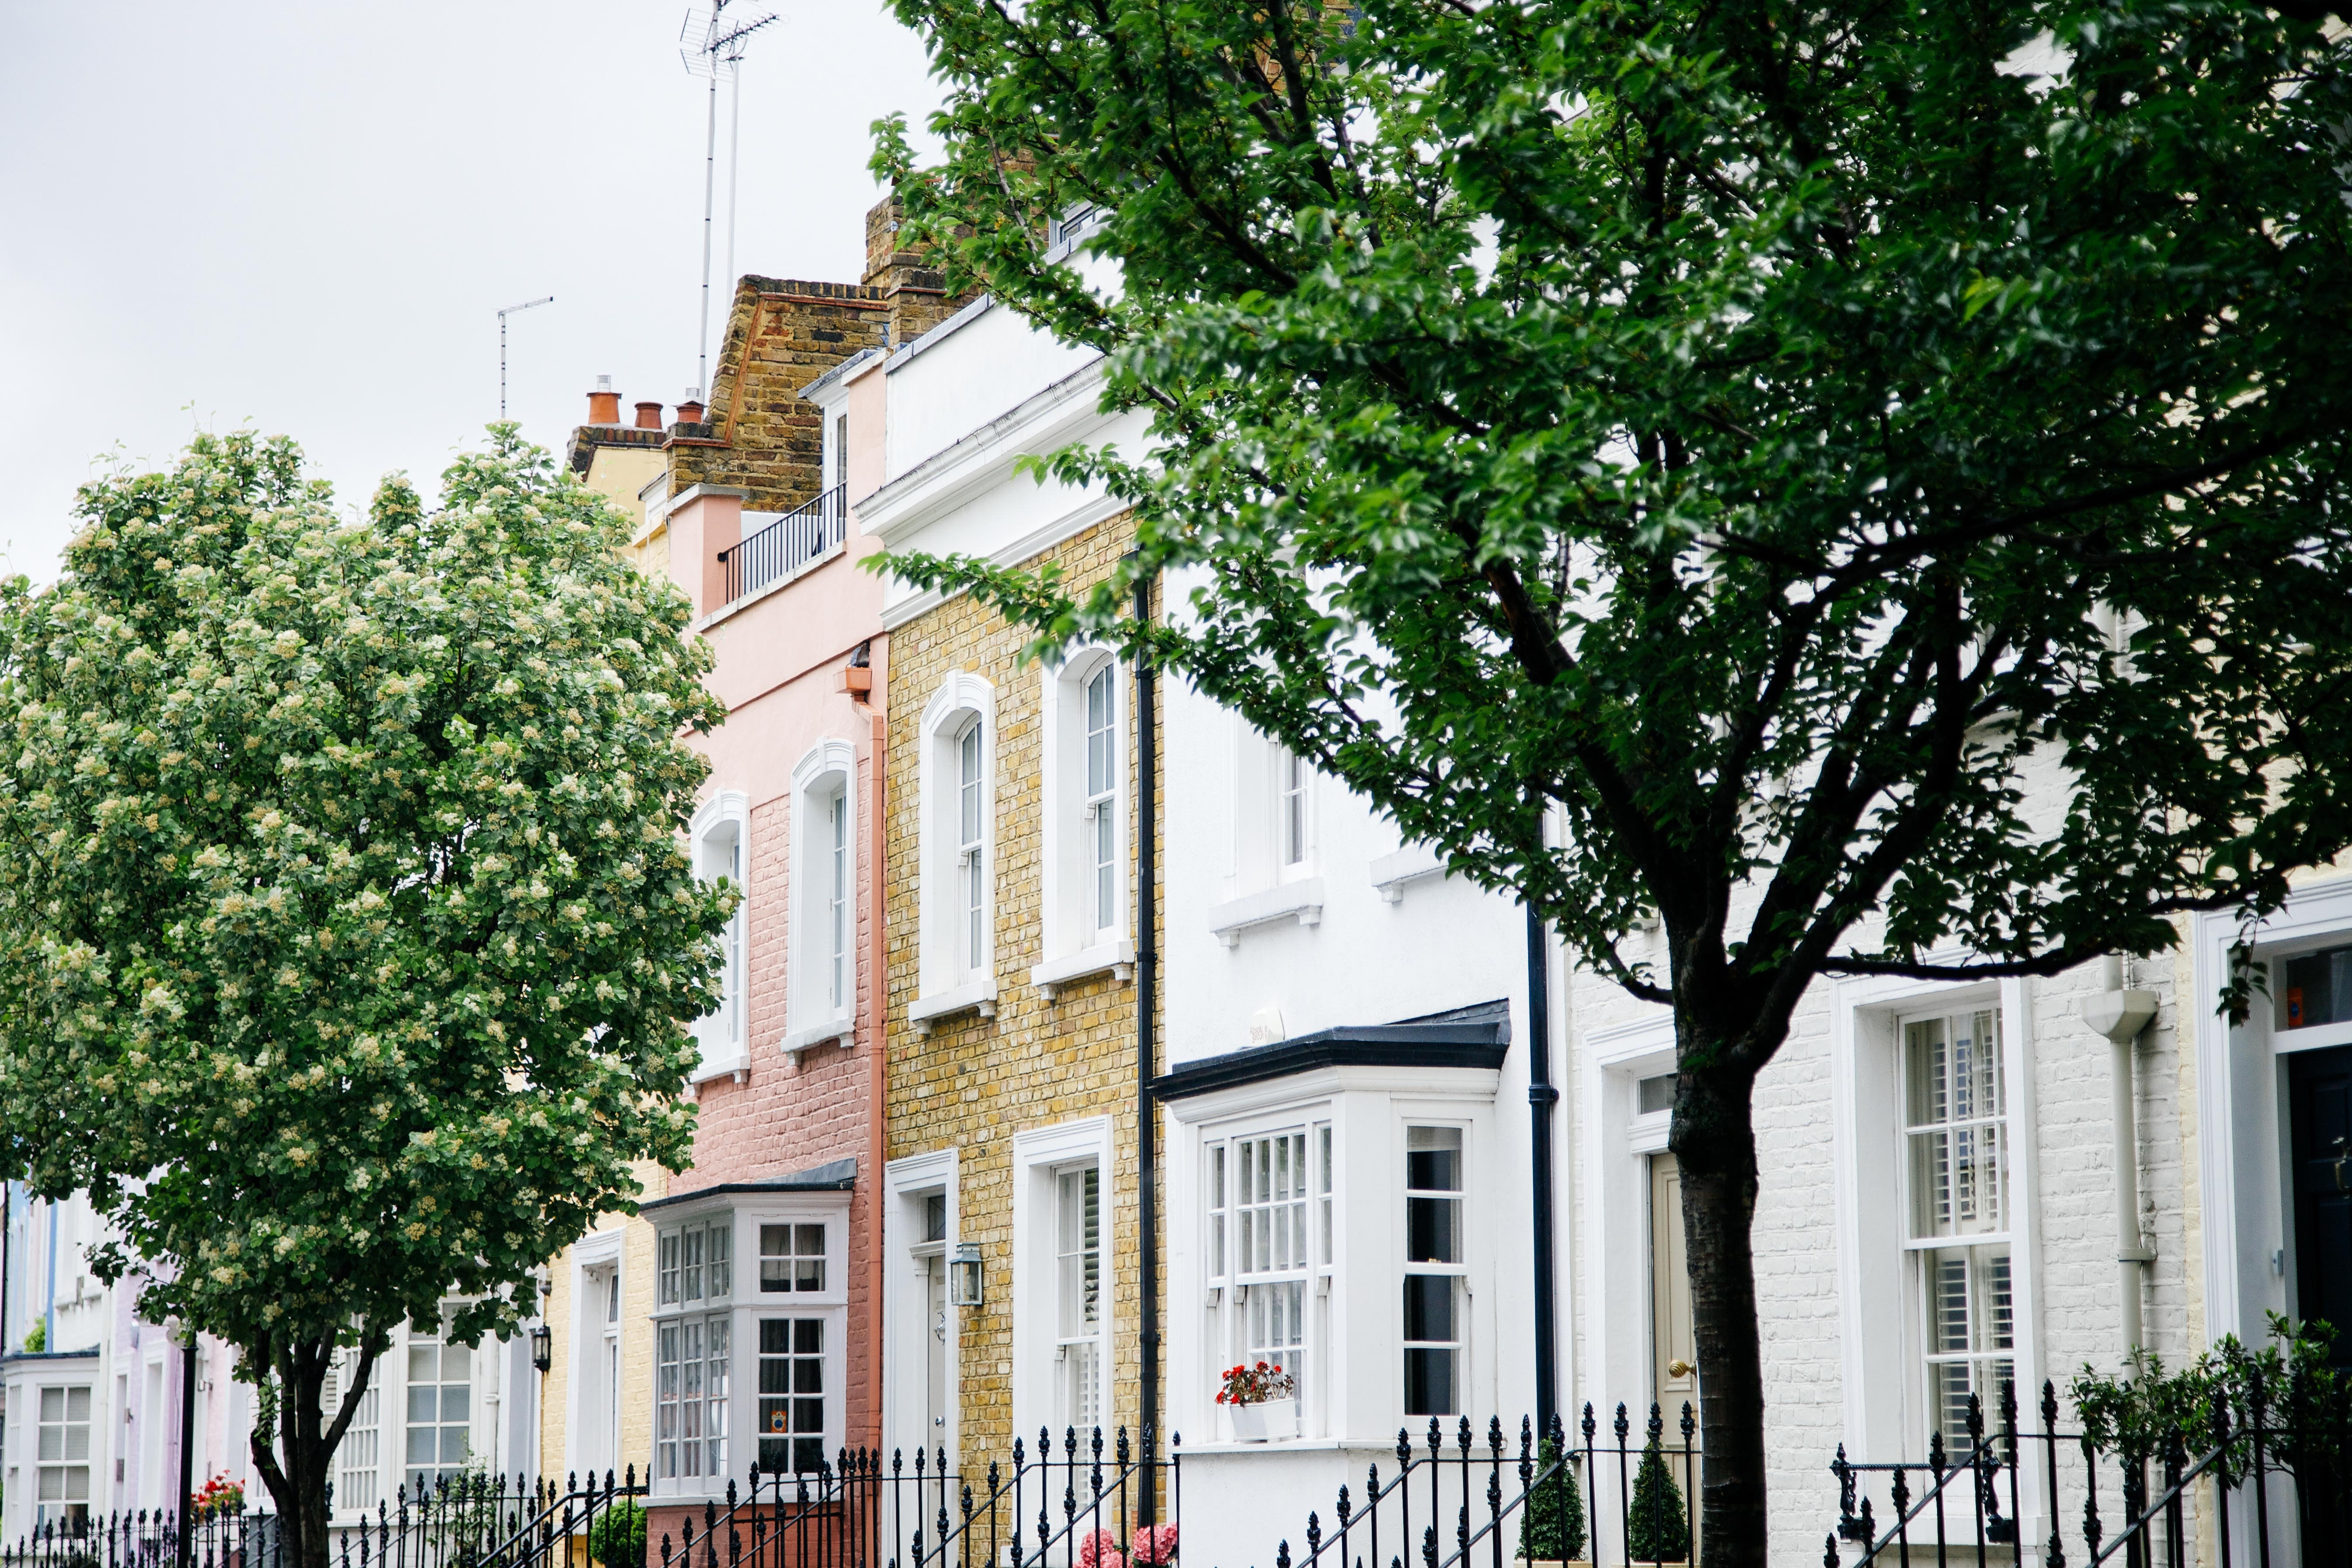tree: (850, 0, 2352, 1568), (2, 422, 745, 1568)
